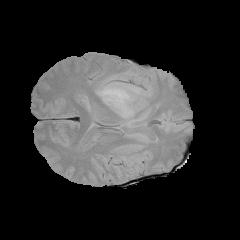glioma: (87, 73, 145, 114)
